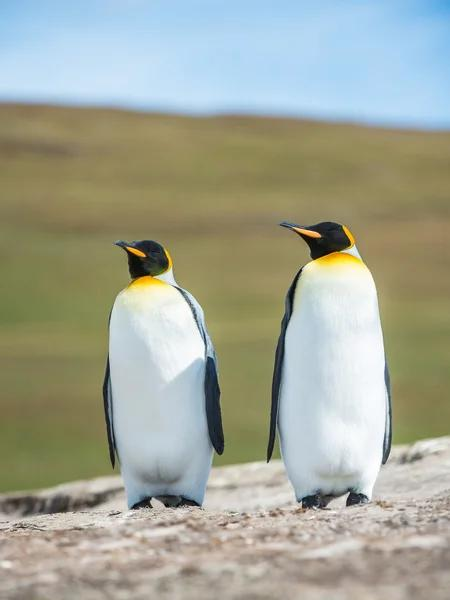king: (84, 211, 252, 529), (266, 183, 412, 533)
